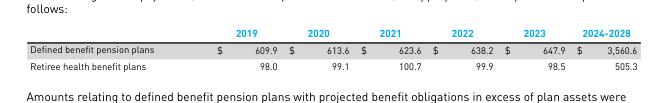table: (29, 28, 636, 71)
table column: (29, 28, 184, 71), (184, 28, 282, 71), (282, 28, 354, 71), (354, 28, 426, 71), (426, 28, 498, 71), (498, 28, 570, 71), (570, 28, 636, 71)
table column header: (29, 28, 636, 41)
table row: (29, 41, 636, 58), (29, 28, 636, 41), (29, 58, 636, 71)
